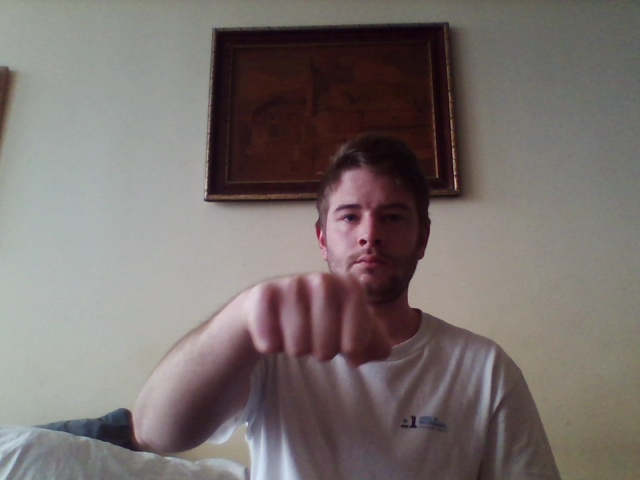da: (245, 268, 394, 368)
